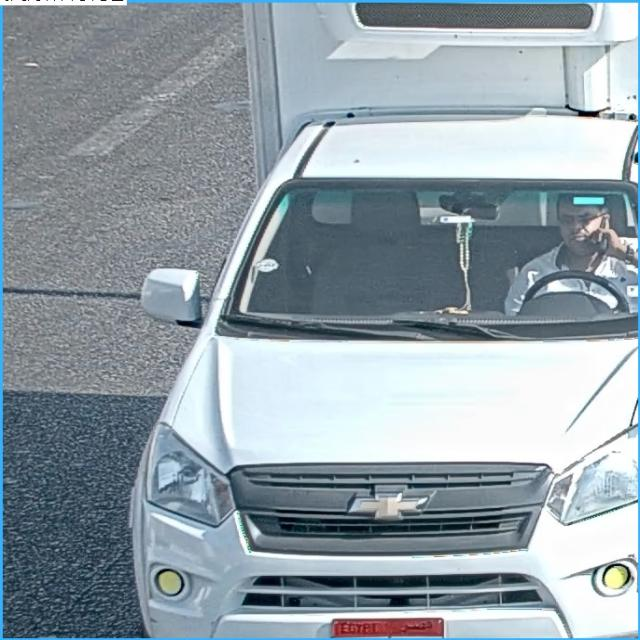windshield: (232, 187, 640, 321)
